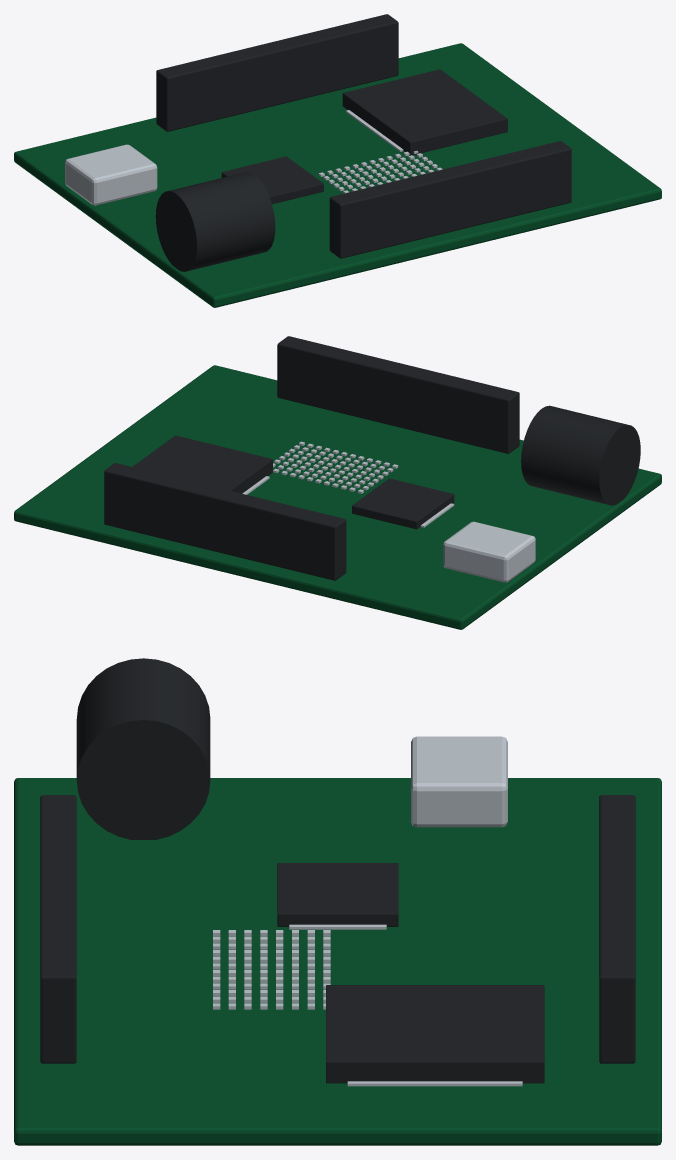
The model's file is arduino_uno_r4_wifi.glb.
3 views of the same model, one above another, from view 1: azimuth 30°, elevation 25°; view 2: azimuth 150°, elevation 25°; view 3: azimuth 270°, elevation 25° (orthographic). The views are drawn at different scales.
Parts seen in each view (by area): view 1: part_arduino_uno_r4_wifi__black_polymer, part_arduino_uno_r4_wifi__pcb, part_arduino_uno_r4_wifi__steel; view 2: part_arduino_uno_r4_wifi__pcb, part_arduino_uno_r4_wifi__black_polymer, part_arduino_uno_r4_wifi__steel; view 3: part_arduino_uno_r4_wifi__pcb, part_arduino_uno_r4_wifi__black_polymer, part_arduino_uno_r4_wifi__steel.
Boxes of the visible parts, left/top/right/bottom form: part_arduino_uno_r4_wifi__black_polymer: left=155, top=14, right=571, bottom=271; part_arduino_uno_r4_wifi__pcb: left=14, top=43, right=661, bottom=307; part_arduino_uno_r4_wifi__steel: left=65, top=110, right=442, bottom=205; part_arduino_uno_r4_wifi__pcb: left=14, top=365, right=661, bottom=629; part_arduino_uno_r4_wifi__black_polymer: left=104, top=336, right=640, bottom=580; part_arduino_uno_r4_wifi__steel: left=242, top=441, right=535, bottom=582; part_arduino_uno_r4_wifi__pcb: left=14, top=778, right=661, bottom=1145; part_arduino_uno_r4_wifi__black_polymer: left=40, top=658, right=635, bottom=1083; part_arduino_uno_r4_wifi__steel: left=213, top=736, right=522, bottom=1086.
Bounding box in the file's own units: 0.0689 × 0.0125 × 0.0533.
